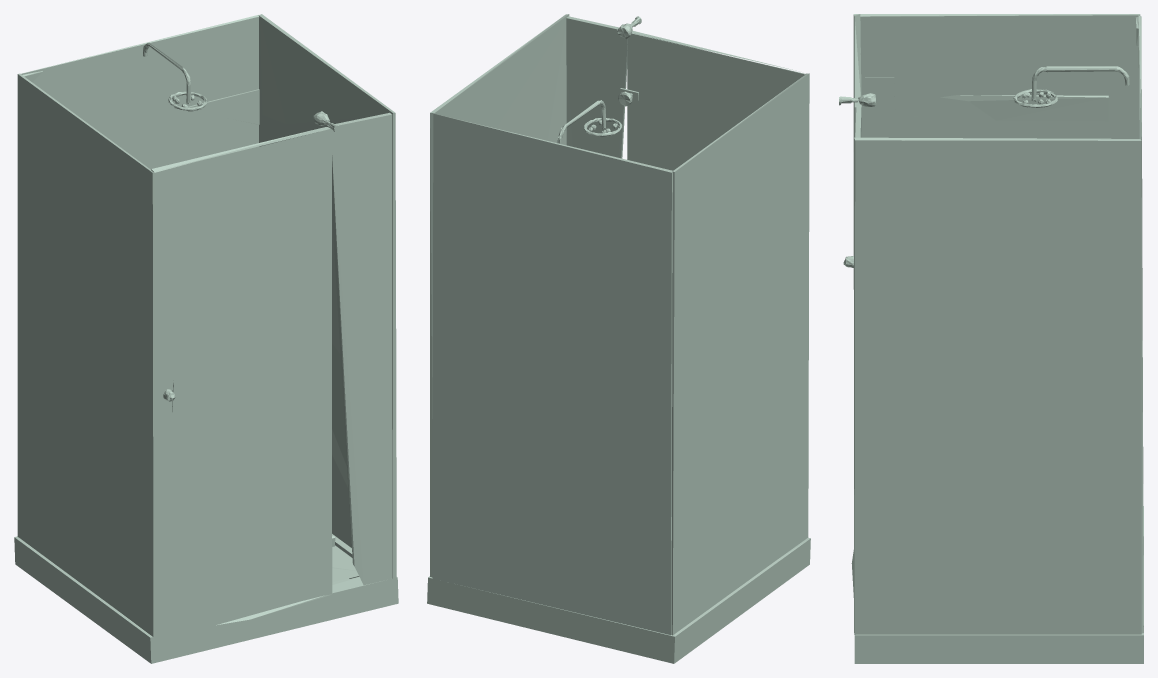
The model's file is gen-shower-enclosure-1.glb.
The picture shows the model from 3 angles, left to right: view 1: azimuth 30°, elevation 25°; view 2: azimuth 150°, elevation 25°; view 3: azimuth 270°, elevation 25°; orthographic projection. The views are drawn at different scales.
Visible parts, largest first — view 1: gen-shower-enclosure-1_part1; view 2: gen-shower-enclosure-1_part1; view 3: gen-shower-enclosure-1_part1.
Boxes of the visible parts, <box> form: gen-shower-enclosure-1_part1: <box>14,14,398,663</box>; gen-shower-enclosure-1_part1: <box>427,14,810,663</box>; gen-shower-enclosure-1_part1: <box>839,14,1143,663</box>.
Bounding box in the file's own units: 1035 × 2000 × 1035.
